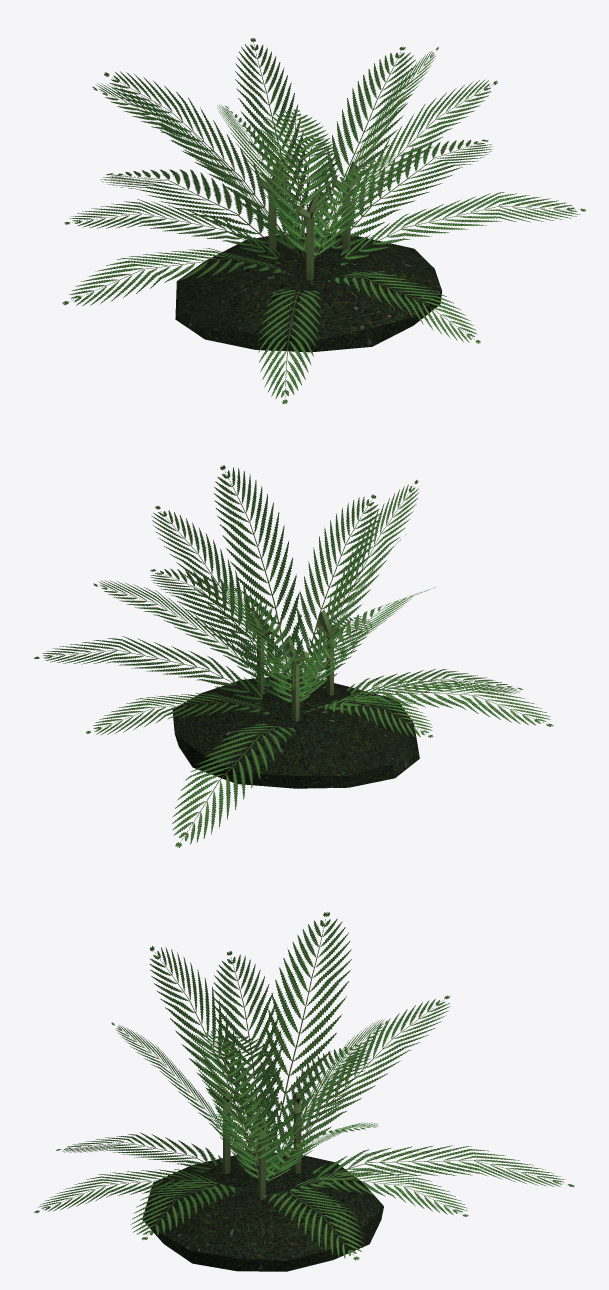
Rendered from FernCluster.fbx.
3 views of the same model, one above another, from view 1: azimuth 30°, elevation 25°; view 2: azimuth 150°, elevation 25°; view 3: azimuth 270°, elevation 25° (orthographic). The views are drawn at different scales.
Parts seen in each view (by area): view 1: FernCluster_Leaves, FernCluster_Main; view 2: FernCluster_Leaves, FernCluster_Main; view 3: FernCluster_Leaves, FernCluster_Main.
Boxes of the visible parts, x1,y1,x2,y2 form: FernCluster_Leaves: [62, 38, 585, 404]; FernCluster_Main: [175, 161, 441, 352]; FernCluster_Leaves: [34, 465, 553, 847]; FernCluster_Main: [172, 609, 419, 788]; FernCluster_Leaves: [34, 912, 574, 1260]; FernCluster_Main: [142, 1092, 383, 1271].
Bounding box in the file's own units: 433 × 198 × 428.
